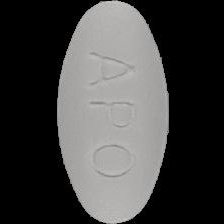70786-2580: (0, 0, 224, 224)
